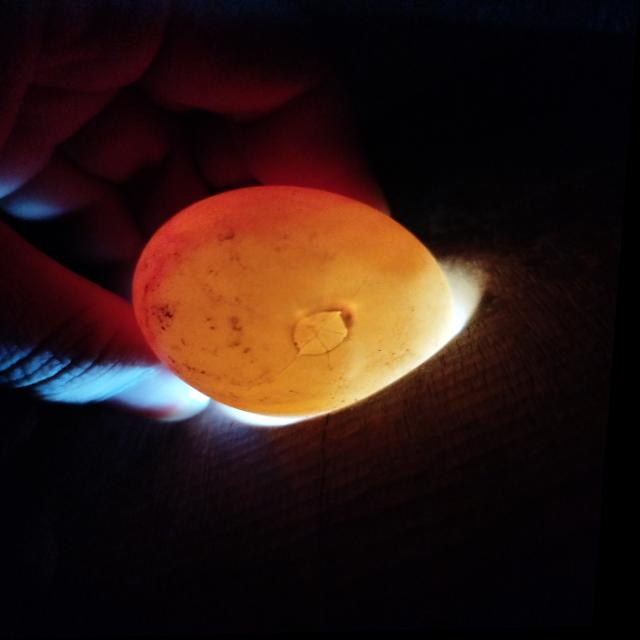Rachadura: (297, 311, 353, 357)
